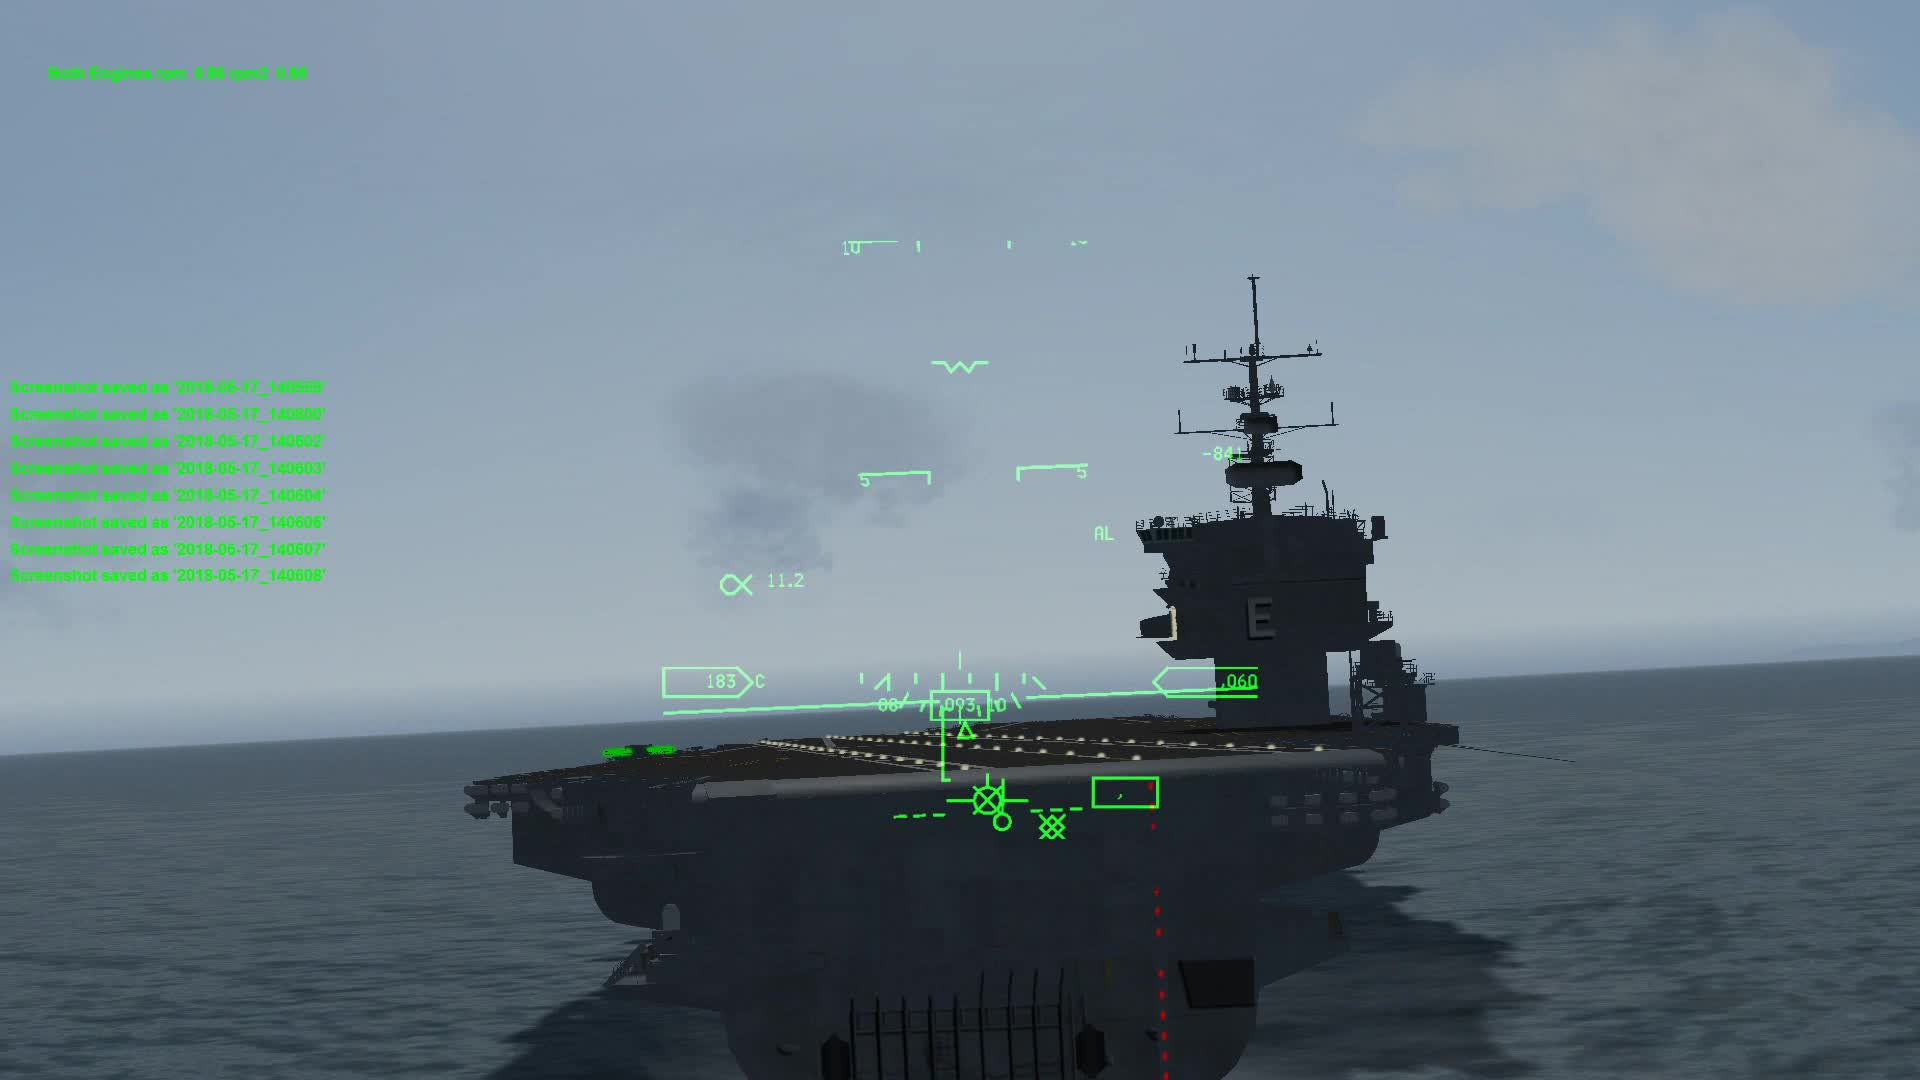speed vector: (945, 760, 1021, 820)
